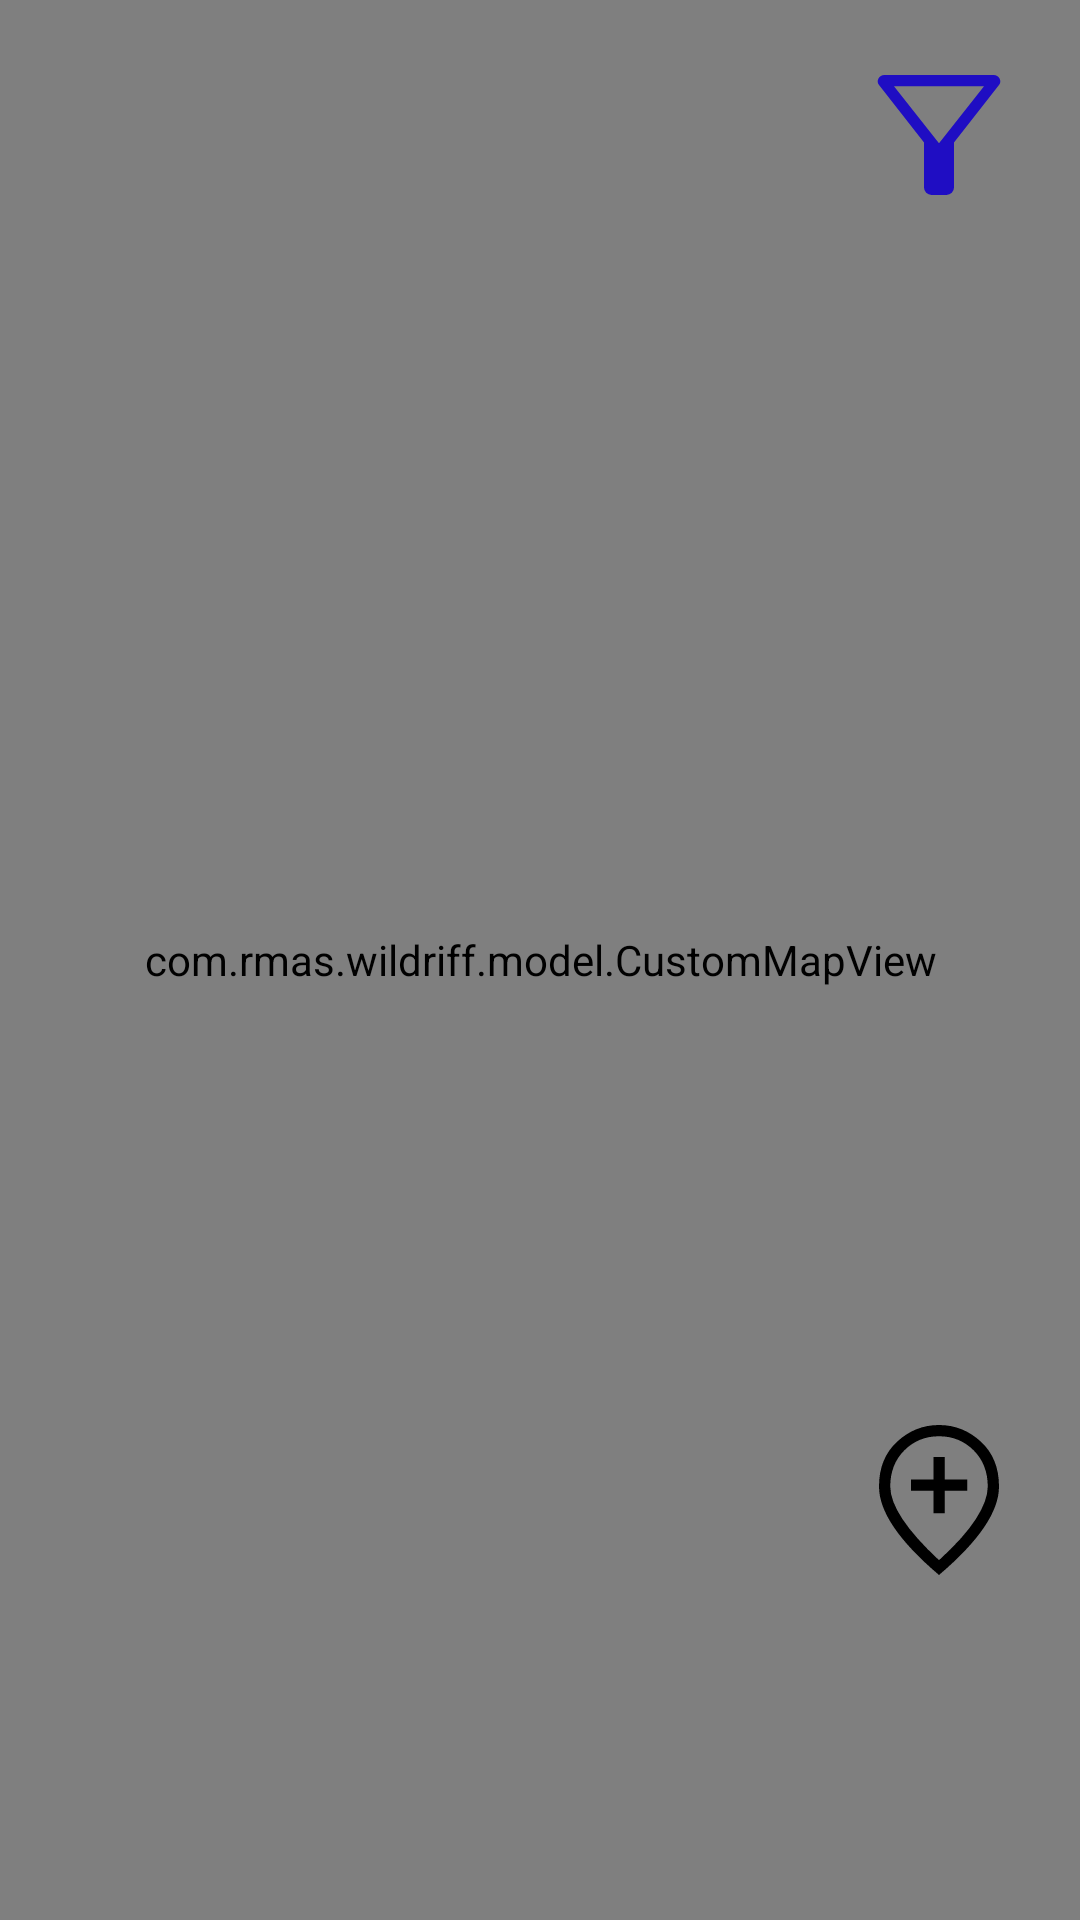

Point at icon controls on the screen. Image size 1080x1920, points as [x,y].
add riff to location: [939,1500]
filter: [939,135]
